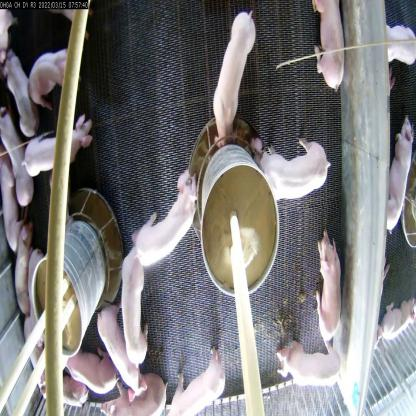Pig: (132, 172, 202, 268), (209, 10, 256, 136), (93, 303, 149, 407), (22, 108, 98, 175), (260, 140, 328, 214), (122, 250, 156, 368), (0, 104, 36, 213), (272, 326, 334, 387), (161, 351, 228, 406), (312, 245, 338, 348), (30, 48, 74, 108), (317, 0, 347, 88), (5, 44, 32, 132)
